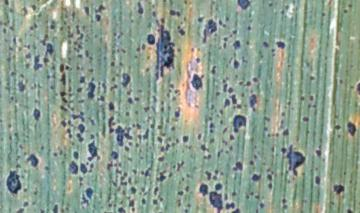tarspot: (153, 17, 176, 80), (285, 143, 307, 178), (113, 124, 134, 148), (200, 18, 218, 44), (5, 169, 22, 194), (207, 190, 224, 213), (85, 139, 101, 163), (230, 113, 248, 133), (189, 71, 206, 91), (84, 76, 96, 99), (25, 153, 40, 168), (119, 71, 132, 88), (106, 114, 116, 134), (32, 54, 43, 72), (78, 193, 91, 208), (67, 160, 79, 176), (345, 120, 357, 136), (247, 92, 258, 109), (70, 111, 85, 123), (155, 168, 167, 183), (330, 182, 345, 194), (235, 1, 252, 11), (198, 182, 209, 197), (93, 3, 107, 14), (249, 171, 263, 182), (145, 33, 156, 46), (84, 186, 94, 200), (135, 1, 145, 15), (231, 57, 241, 71), (98, 121, 106, 138), (32, 106, 41, 121), (224, 199, 235, 211), (172, 106, 182, 119), (78, 161, 87, 175), (75, 122, 86, 133), (199, 142, 210, 153), (234, 160, 245, 171), (45, 41, 53, 56), (202, 169, 212, 181), (231, 39, 241, 51), (200, 167, 210, 179), (274, 40, 286, 50), (38, 33, 47, 46), (81, 4, 90, 17), (175, 158, 184, 171), (58, 72, 66, 86), (100, 79, 107, 95), (74, 132, 84, 143), (86, 115, 96, 126), (95, 93, 106, 103), (106, 100, 116, 111), (208, 64, 218, 75), (144, 165, 153, 177), (4, 78, 11, 93), (229, 92, 237, 105), (109, 150, 119, 160), (16, 80, 25, 91), (142, 127, 149, 141), (222, 96, 230, 108), (93, 13, 102, 23), (96, 80, 102, 95), (108, 83, 118, 92), (155, 135, 164, 145), (181, 134, 190, 144), (214, 181, 224, 190), (219, 136, 228, 146), (354, 80, 360, 95), (50, 202, 58, 213), (151, 185, 159, 196), (13, 206, 25, 213), (65, 127, 72, 139), (58, 104, 67, 113), (167, 8, 176, 17), (196, 14, 205, 23), (262, 114, 271, 123), (279, 146, 288, 155), (30, 185, 38, 195), (71, 150, 79, 160), (105, 161, 113, 171), (177, 27, 185, 37), (241, 55, 249, 65), (227, 132, 235, 142), (281, 127, 289, 137), (70, 10, 76, 23), (21, 5, 28, 16), (73, 23, 80, 34), (85, 67, 96, 74), (115, 206, 126, 213), (105, 190, 112, 201), (314, 174, 321, 185), (74, 63, 82, 72), (125, 96, 134, 104), (109, 179, 118, 187), (127, 198, 135, 207), (130, 167, 138, 176), (142, 105, 151, 113), (156, 154, 165, 162), (244, 79, 252, 88), (251, 75, 259, 84), (253, 192, 261, 201), (265, 172, 273, 181), (314, 148, 322, 157), (301, 115, 310, 123), (78, 74, 85, 84), (109, 59, 116, 69), (139, 197, 146, 207), (221, 125, 228, 135), (58, 62, 64, 73), (230, 207, 241, 213), (23, 51, 31, 59), (41, 56, 49, 64), (22, 200, 30, 208), (63, 63, 71, 71), (122, 145, 130, 153), (206, 114, 214, 122), (266, 182, 274, 190), (261, 124, 269, 132), (307, 94, 315, 102), (75, 86, 84, 93), (119, 46, 126, 55), (132, 95, 141, 102), (129, 186, 136, 195), (149, 120, 156, 129), (143, 65, 150, 74), (160, 16, 167, 25), (150, 93, 157, 102), (159, 130, 168, 137), (164, 143, 171, 152), (221, 41, 228, 50), (230, 165, 239, 172), (247, 159, 256, 166), (262, 40, 269, 49), (83, 48, 89, 58), (4, 55, 11, 63), (76, 33, 84, 40), (75, 52, 83, 59), (58, 89, 66, 96), (66, 84, 73, 92), (59, 96, 67, 103), (59, 119, 66, 127), (116, 30, 123, 38), (108, 75, 116, 82), (125, 88, 133, 95), (127, 139, 134, 147), (125, 156, 133, 163), (134, 122, 141, 130), (166, 103, 173, 111), (156, 123, 164, 130), (169, 124, 176, 132), (151, 198, 158, 206), (182, 184, 189, 192), (176, 189, 184, 196), (229, 189, 237, 196), (214, 90, 221, 98), (237, 79, 244, 87), (280, 196, 288, 203), (298, 94, 306, 101), (333, 123, 341, 130), (332, 112, 339, 120), (222, 82, 227, 93), (76, 98, 85, 104), (126, 176, 132, 185), (136, 132, 142, 141), (175, 198, 181, 207), (196, 131, 202, 140), (218, 107, 224, 116), (345, 207, 354, 213), (48, 23, 55, 30), (48, 83, 55, 90), (12, 131, 19, 138), (38, 144, 45, 151), (14, 154, 21, 161), (38, 206, 45, 213), (88, 161, 95, 168), (123, 110, 130, 117), (120, 189, 127, 196), (129, 206, 136, 213), (138, 185, 145, 192), (150, 10, 157, 17), (175, 46, 182, 53), (193, 103, 200, 110), (231, 51, 238, 58), (258, 201, 265, 208), (265, 166, 272, 173), (308, 74, 315, 81), (1, 26, 7, 34), (31, 21, 37, 29), (30, 3, 36, 11), (30, 82, 36, 90), (6, 122, 12, 130), (14, 163, 22, 169), (109, 120, 117, 126), (114, 168, 122, 174), (119, 180, 127, 186), (135, 44, 141, 52), (173, 88, 181, 94), (169, 95, 177, 101), (174, 136, 180, 144), (167, 170, 173, 178), (231, 28, 239, 34), (221, 35, 229, 41), (208, 102, 214, 110), (280, 204, 288, 210), (31, 42, 36, 51), (51, 71, 56, 80), (141, 42, 146, 51), (195, 56, 200, 65), (248, 135, 253, 144), (11, 36, 17, 43), (36, 11, 42, 18), (9, 70, 15, 77), (24, 62, 30, 69), (18, 72, 24, 79), (33, 98, 39, 105), (49, 64, 56, 70), (7, 134, 13, 141), (31, 199, 37, 206), (43, 165, 50, 171), (51, 151, 58, 157), (62, 6, 69, 12), (87, 55, 93, 62), (87, 167, 93, 174), (88, 132, 94, 139), (101, 54, 107, 61), (133, 109, 140, 115), (139, 169, 145, 176), (137, 147, 143, 154), (132, 53, 138, 60), (126, 64, 132, 71), (165, 91, 171, 98), (158, 105, 164, 112), (164, 116, 170, 123), (184, 173, 191, 179), (188, 45, 194, 52), (212, 167, 218, 174), (206, 153, 212, 160), (209, 136, 215, 143), (208, 122, 215, 128), (227, 86, 233, 93), (236, 103, 242, 110), (267, 1, 273, 8), (250, 106, 257, 112), (244, 193, 250, 200), (252, 153, 258, 160), (278, 118, 284, 125), (285, 99, 292, 105), (320, 156, 327, 162), (279, 8, 285, 15), (283, 4, 290, 10), (78, 181, 83, 189), (136, 88, 144, 93), (159, 145, 164, 153), (195, 45, 200, 53), (217, 18, 222, 26), (223, 192, 228, 200), (270, 144, 275, 152), (2, 37, 8, 43), (25, 43, 31, 49), (17, 37, 23, 43), (17, 45, 23, 51), (8, 95, 14, 101), (36, 82, 42, 88), (36, 88, 40, 97), (17, 143, 23, 149), (22, 150, 28, 156), (58, 25, 64, 31), (65, 33, 74, 37), (70, 140, 76, 146), (117, 161, 123, 167), (106, 202, 112, 208), (138, 155, 144, 161), (145, 54, 151, 60), (175, 10, 181, 16), (168, 82, 174, 88), (158, 99, 164, 105), (170, 163, 176, 169), (185, 202, 191, 208), (223, 15, 229, 21), (211, 174, 217, 180), (201, 154, 207, 160), (208, 127, 214, 133), (217, 118, 223, 124), (233, 73, 239, 79), (244, 39, 250, 45), (254, 207, 260, 213), (258, 53, 264, 59), (265, 132, 271, 138), (278, 170, 284, 176), (300, 171, 306, 177), (280, 110, 286, 116), (341, 169, 347, 175), (306, 102, 312, 108), (320, 11, 326, 17), (347, 2, 353, 8), (337, 78, 343, 84), (336, 133, 342, 139), (348, 83, 354, 89), (8, 24, 13, 31), (28, 25, 33, 32), (45, 73, 50, 80), (22, 186, 27, 193), (60, 206, 65, 213), (76, 43, 83, 48), (67, 76, 72, 83), (66, 119, 71, 126), (118, 60, 123, 67), (115, 46, 120, 53), (121, 171, 128, 176), (129, 17, 134, 24), (175, 23, 180, 30), (180, 175, 185, 182), (246, 24, 251, 31), (228, 144, 233, 151), (239, 91, 244, 98), (284, 169, 289, 176), (272, 171, 277, 178), (304, 128, 309, 135), (312, 102, 317, 109), (305, 60, 310, 67), (58, 148, 62, 156), (81, 24, 85, 32), (216, 150, 220, 158), (3, 1, 9, 6), (8, 7, 13, 13), (50, 19, 55, 25), (43, 19, 49, 24), (66, 201, 71, 207), (77, 176, 83, 181), (64, 13, 69, 19), (66, 38, 71, 44), (67, 92, 73, 97), (112, 31, 117, 37), (112, 202, 117, 208), (119, 199, 124, 205), (134, 141, 139, 147), (178, 19, 183, 25), (181, 14, 186, 20), (158, 196, 163, 202), (181, 81, 186, 87), (183, 207, 188, 213), (176, 179, 181, 185), (221, 22, 226, 28), (247, 12, 252, 18), (186, 101, 191, 107), (218, 170, 223, 176), (224, 149, 230, 154), (223, 63, 229, 68), (221, 56, 226, 62), (248, 190, 253, 196), (270, 52, 276, 57), (286, 178, 291, 184), (274, 132, 279, 138), (317, 143, 322, 149), (329, 199, 334, 205), (348, 178, 353, 184), (342, 7, 347, 13), (7, 45, 12, 50), (11, 54, 16, 59), (12, 98, 17, 103), (24, 133, 29, 138), (60, 159, 65, 164), (62, 19, 67, 24), (69, 106, 74, 111), (84, 160, 89, 165), (93, 33, 98, 38), (66, 56, 71, 61), (137, 191, 142, 196), (183, 118, 188, 123), (213, 31, 218, 36), (223, 75, 228, 80), (257, 49, 262, 54), (270, 47, 275, 52), (314, 166, 319, 171), (20, 173, 24, 179), (45, 206, 49, 212), (68, 99, 74, 103), (65, 104, 71, 108), (113, 161, 117, 167), (119, 176, 125, 180), (151, 2, 155, 8), (160, 1, 168, 4), (218, 147, 222, 153), (215, 112, 219, 118), (1, 136, 4, 143), (182, 1, 189, 4), (2, 21, 6, 26), (44, 25, 48, 30), (64, 206, 68, 211), (66, 29, 70, 34), (72, 40, 77, 44), (221, 77, 225, 82), (1, 116, 3, 125), (75, 48, 79, 52), (126, 195, 130, 199), (168, 88, 172, 92), (66, 25, 71, 28), (72, 46, 76, 49), (1, 19, 2, 27), (35, 1, 41, 2)
